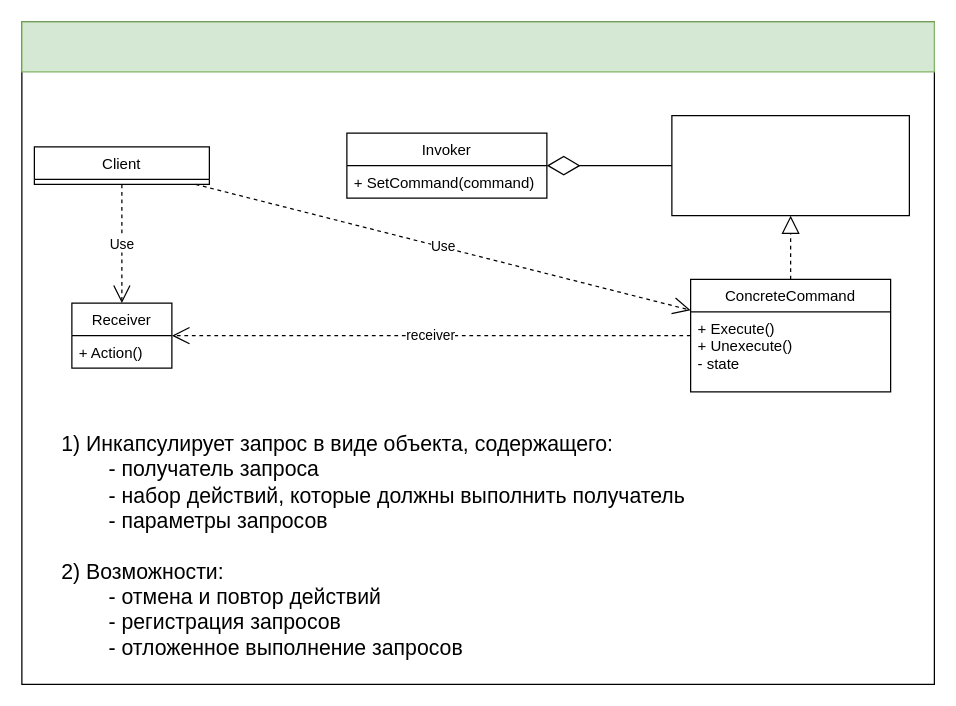
Some shapes in this 956 by 706 pixel diagram are drawn without their labels. Each missing label, with the centre of its shape:
<<Interface>> ICommand + Execute() + Unexecute(): point 790,165
Паттерн "Команда": point 477,46
